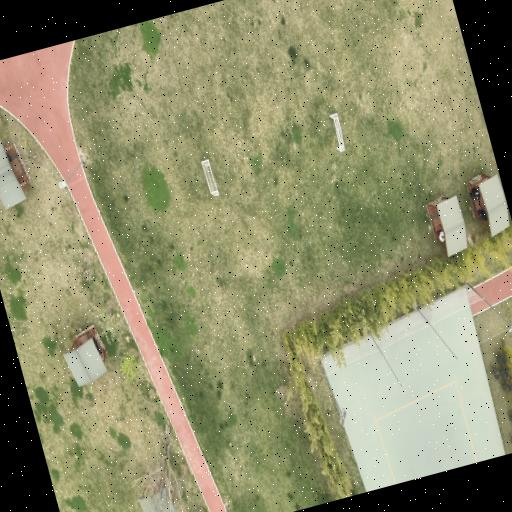person: (471, 186, 480, 199), (478, 208, 487, 220), (439, 230, 445, 242)
